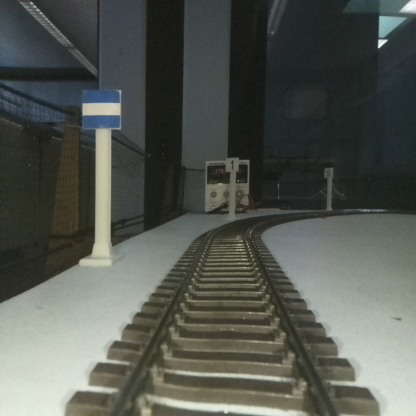start: (82, 90, 120, 265)
white-info-1: (226, 157, 238, 217)
white-info-5: (324, 166, 333, 214)
